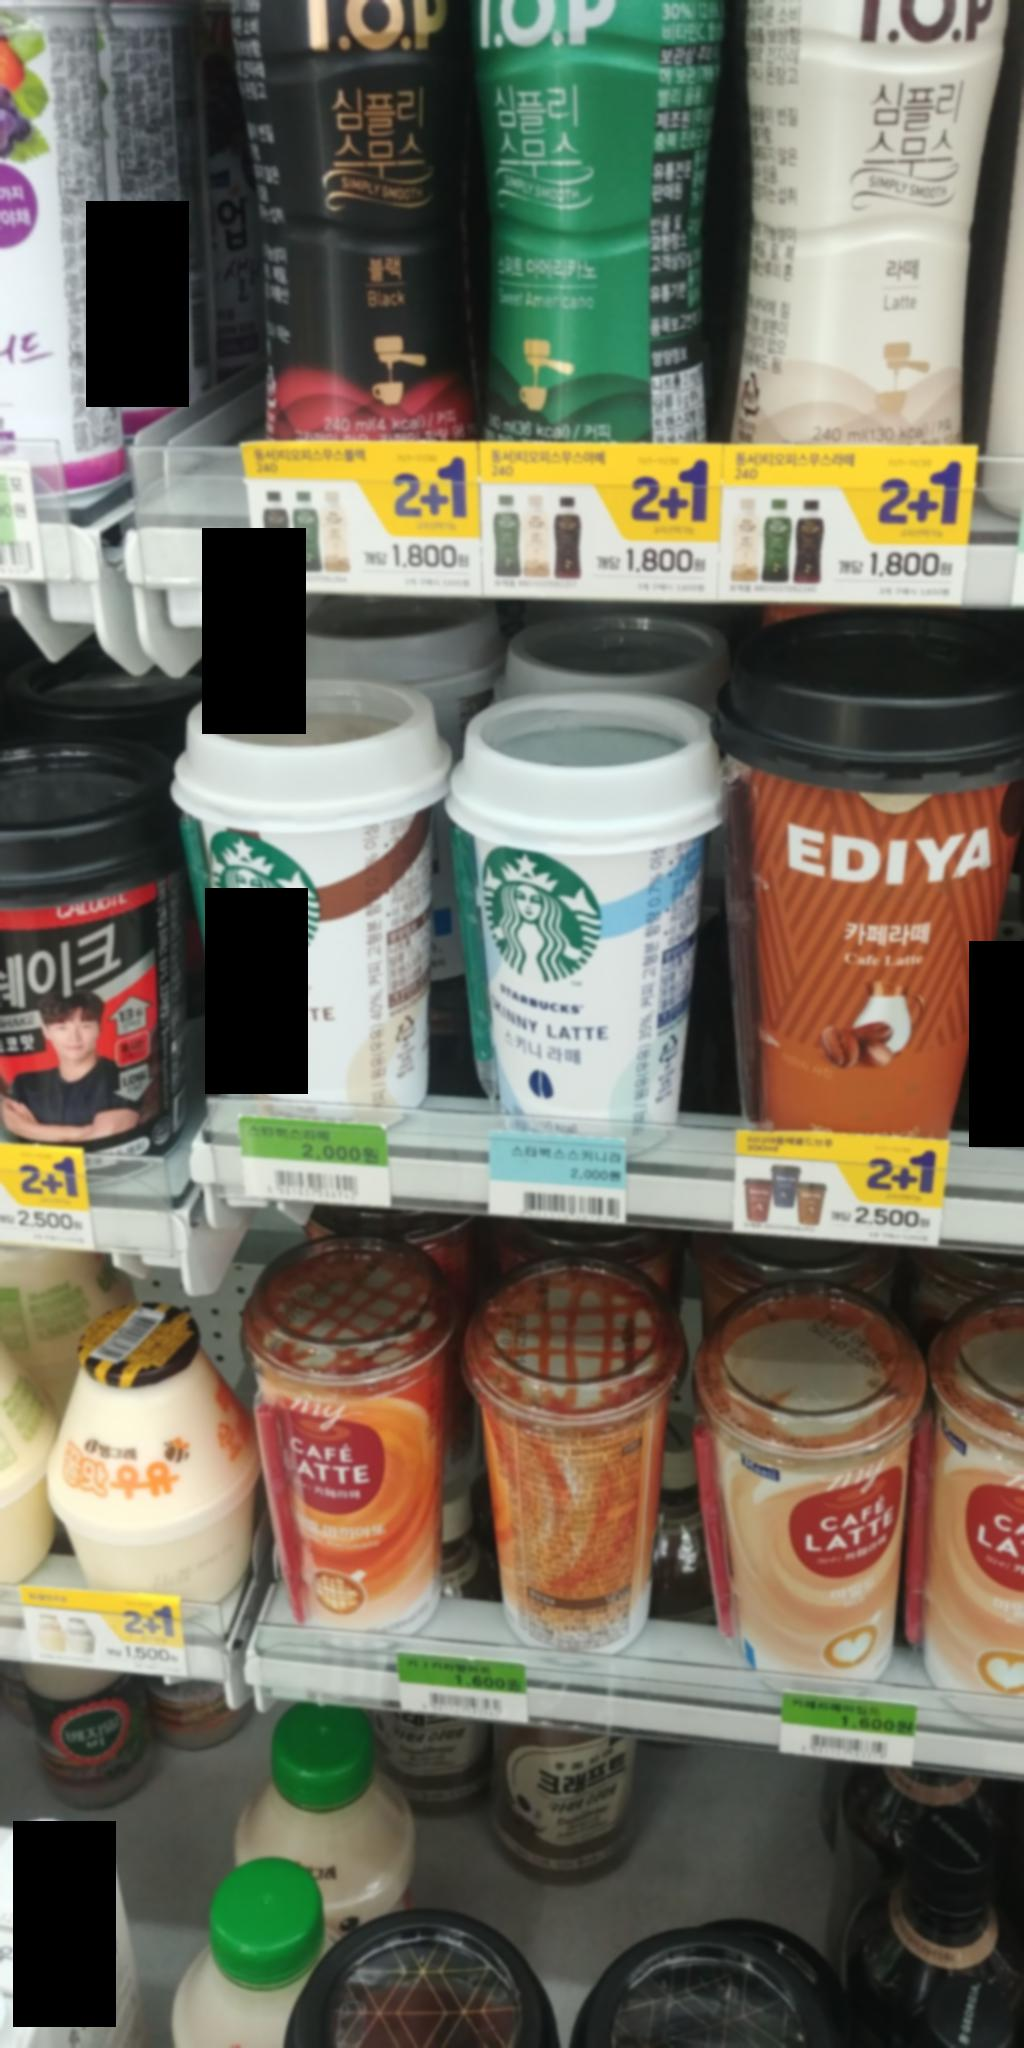starbucks_cafelatte: (171, 666, 457, 1142)
